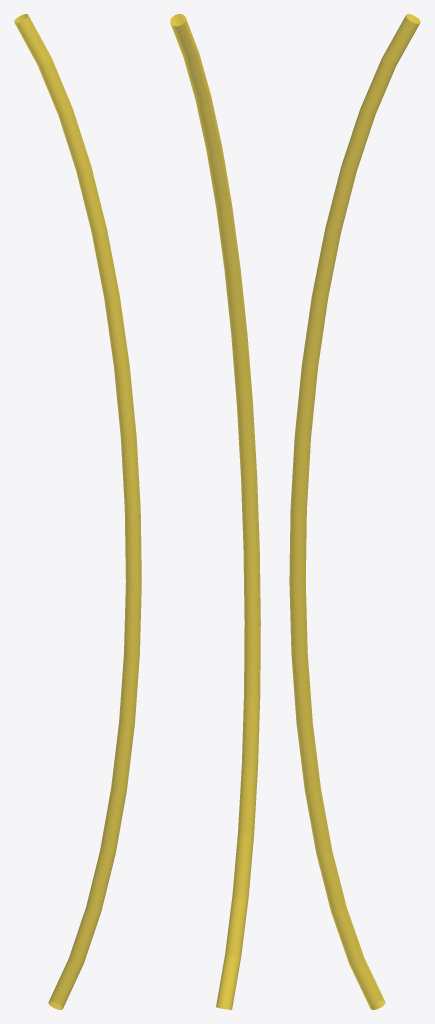
The model's file is Event_75125125_track_17.fbx.
3 views of the same model, side by side, from view 1: azimuth 90°, elevation 25°; view 2: azimuth 150°, elevation 25°; view 3: azimuth 270°, elevation 25° (orthographic). The views are drawn at different scales.
Visible parts, largest first — view 1: Model; view 2: Model; view 3: Model.
Part boxes in pixels (left/top/right/bottom): Model: left=14, top=14, right=141, bottom=1009; Model: left=170, top=14, right=260, bottom=1009; Model: left=289, top=14, right=420, bottom=1009.
Size of the model in its own units: 0.12 by 2.7 by 0.3188.
